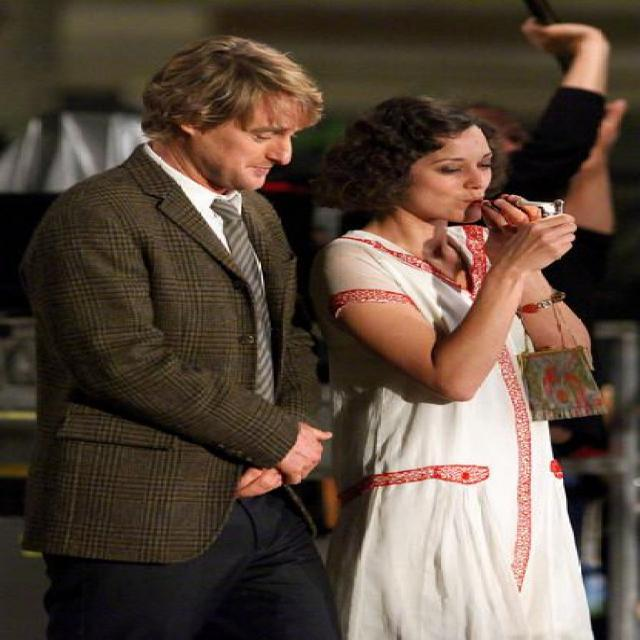cigarette: (468, 188, 566, 216)
